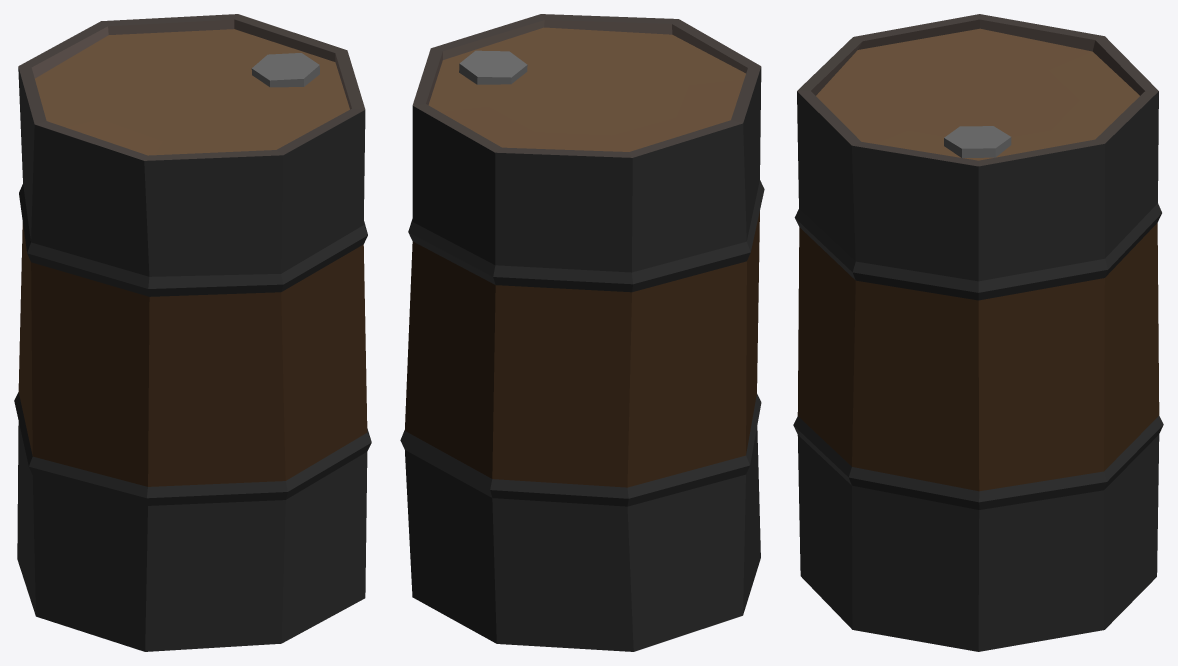
File: RustyBarrel.glb
The picture shows the model from 3 angles, left to right: view 1: azimuth 30°, elevation 25°; view 2: azimuth 150°, elevation 25°; view 3: azimuth 270°, elevation 25°; orthographic projection.
Parts seen in each view (by area): view 1: BarrelTrash; view 2: BarrelTrash; view 3: BarrelTrash.
Boxes of the visible parts, <box> form: BarrelTrash: <box>14,14,371,651</box>; BarrelTrash: <box>400,14,764,651</box>; BarrelTrash: <box>793,14,1163,651</box>.
Bounding box in the file's own units: 0.8025 × 1.16 × 0.7961.
Materials: 1 (1 with a texture image).
